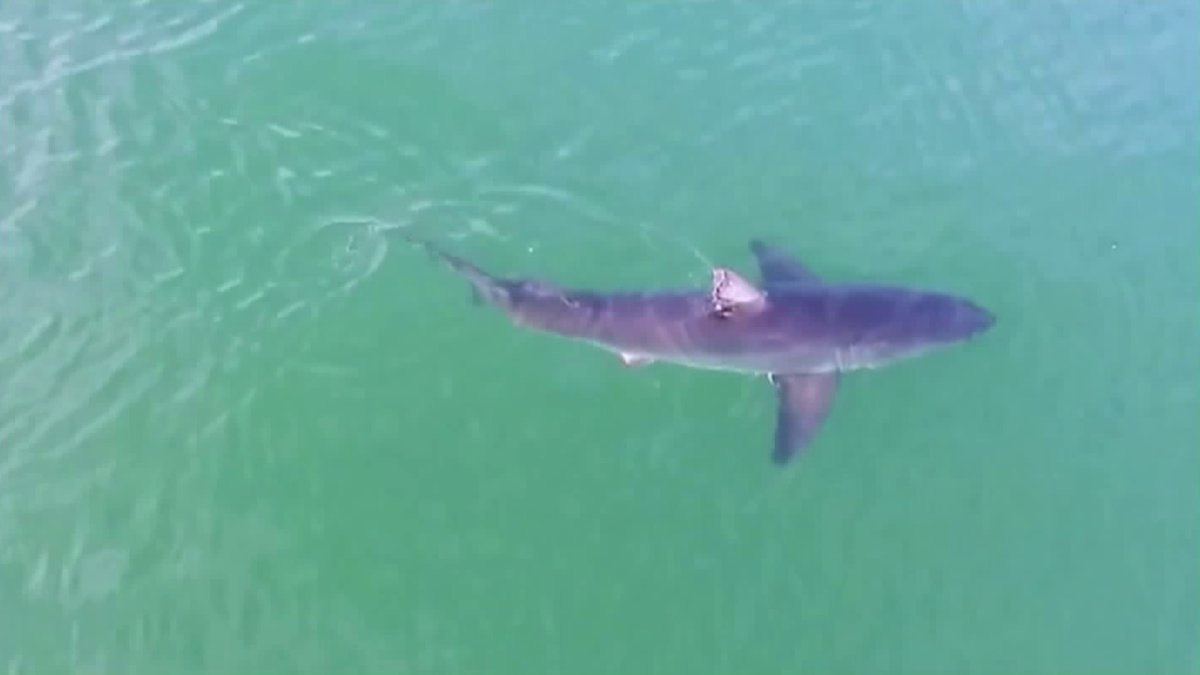shark: (406, 231, 1002, 472)
